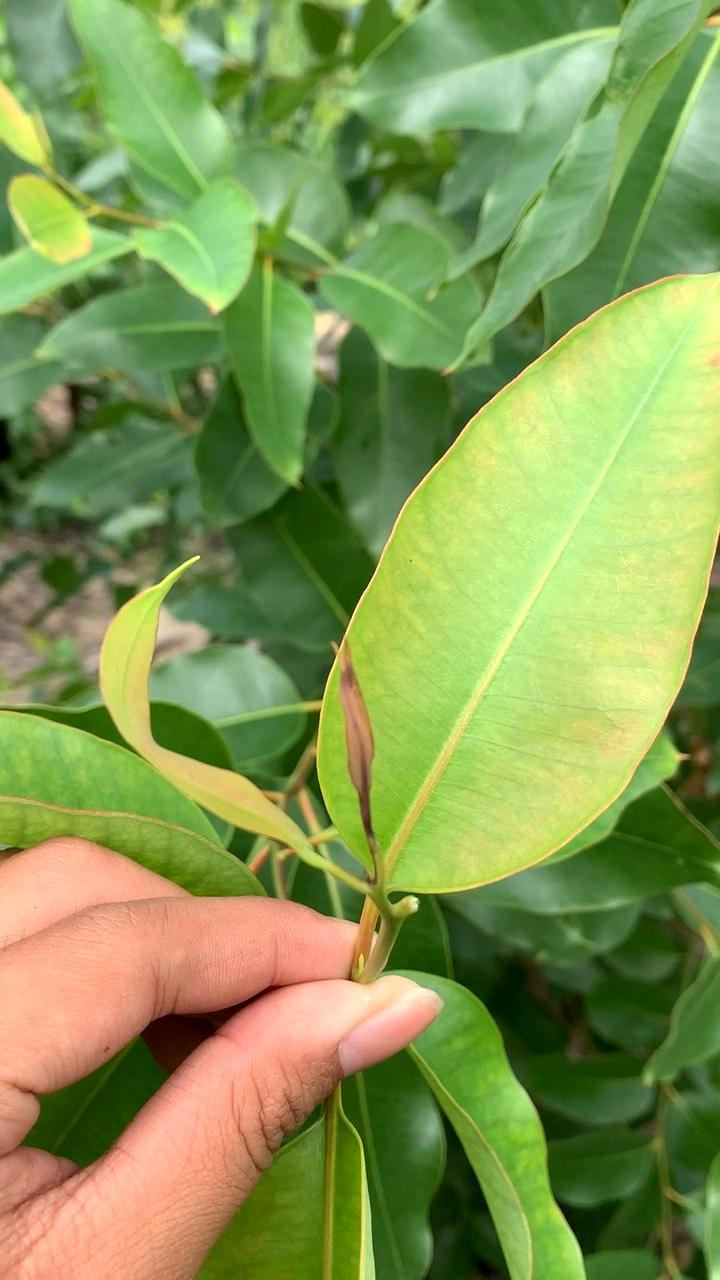Helopeltis-Withered Sprout: (318, 636, 387, 837)
